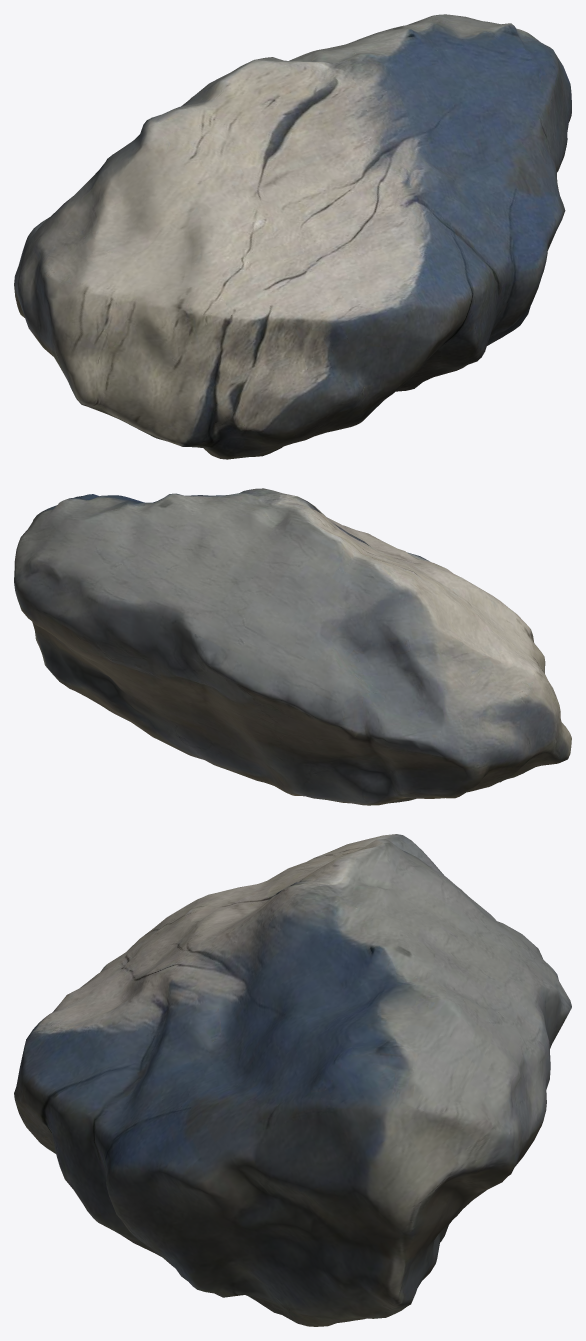
The model's file is Meshy_AI_Stylized_rock_0224025150_texture.glb.
3 renders of one model, top to bottom at view 1: azimuth 30°, elevation 25°; view 2: azimuth 150°, elevation 25°; view 3: azimuth 270°, elevation 25°, orthographic. The views are drawn at different scales.
Bounding box in the file's own units: 2 × 1.1 × 1.39.
1 material, 1 textured.
